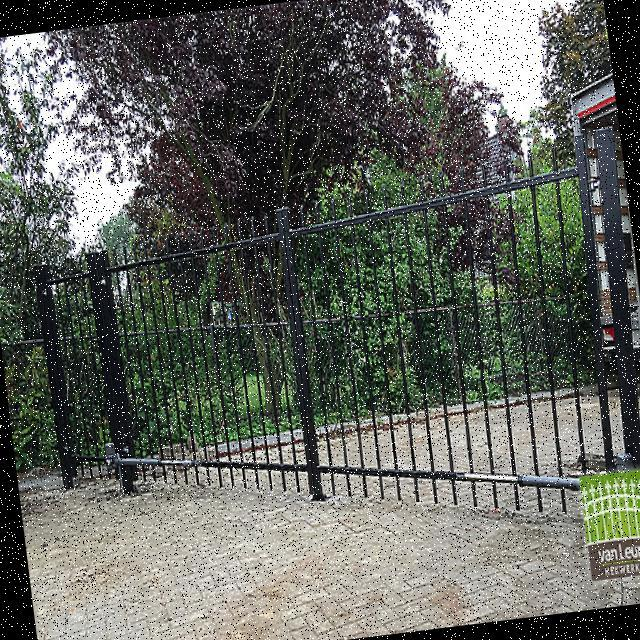fence line: (34, 178, 639, 577)
